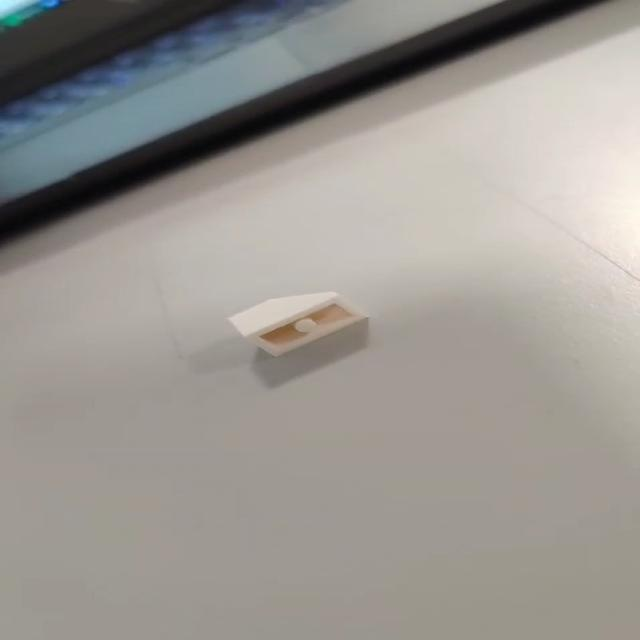P1x2x1: (228, 292, 372, 359)
